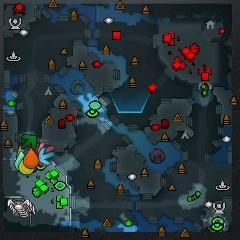p1: (25, 149, 29, 157)
p2: (15, 152, 25, 170)
p4: (19, 159, 34, 175)
p5: (23, 148, 38, 169)
x1: (37, 142, 55, 153)
x2: (17, 145, 25, 155)
x3: (39, 147, 55, 165)
x4: (21, 134, 37, 149)
